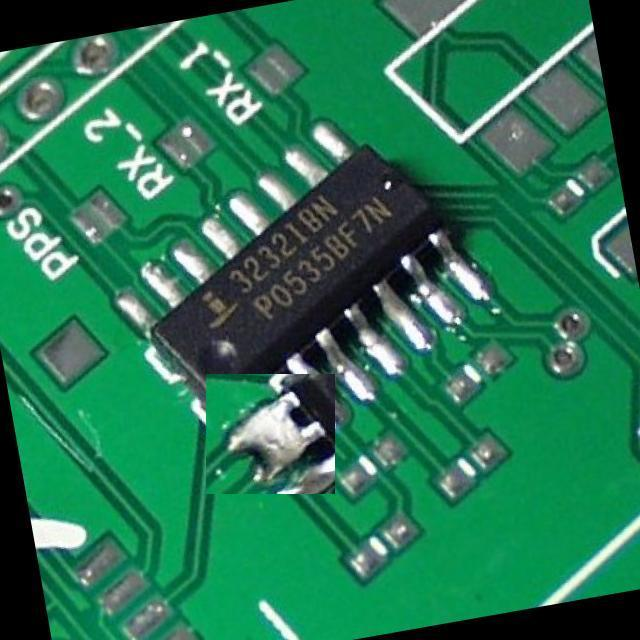damged: (205, 374, 335, 494)
